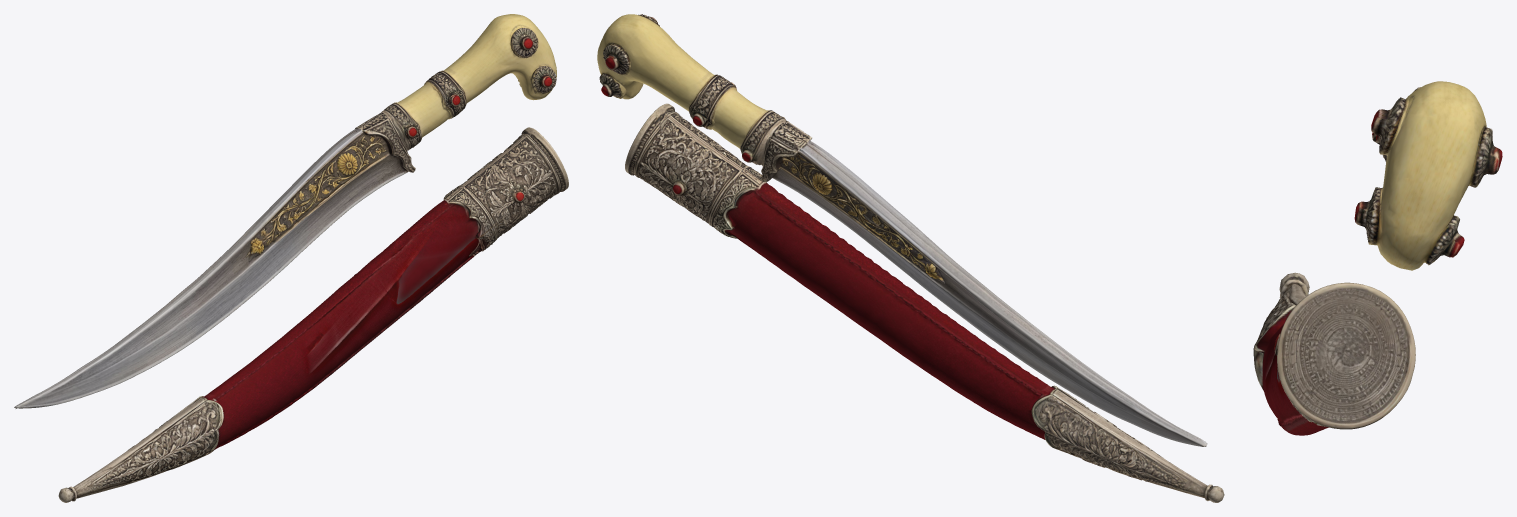
Rendered from İşlemeli yatağan.glb.
3 renders of one model, left to right at view 1: azimuth 30°, elevation 25°; view 2: azimuth 150°, elevation 25°; view 3: azimuth 270°, elevation 25°, orthographic. The views are drawn at different scales.
Visible parts, largest first — view 1: tripo_node_b0db52aa-a10b-443b-9e90-a22daea2a3e1; view 2: tripo_node_b0db52aa-a10b-443b-9e90-a22daea2a3e1; view 3: tripo_node_b0db52aa-a10b-443b-9e90-a22daea2a3e1.
Boxes of the visible parts, <box> form: tripo_node_b0db52aa-a10b-443b-9e90-a22daea2a3e1: <box>14,14,568,502</box>; tripo_node_b0db52aa-a10b-443b-9e90-a22daea2a3e1: <box>597,14,1224,502</box>; tripo_node_b0db52aa-a10b-443b-9e90-a22daea2a3e1: <box>1253,81,1502,435</box>.
Size of the model in its own units: 0.98 by 0.5931 by 0.1956.
1 material, 1 textured.
